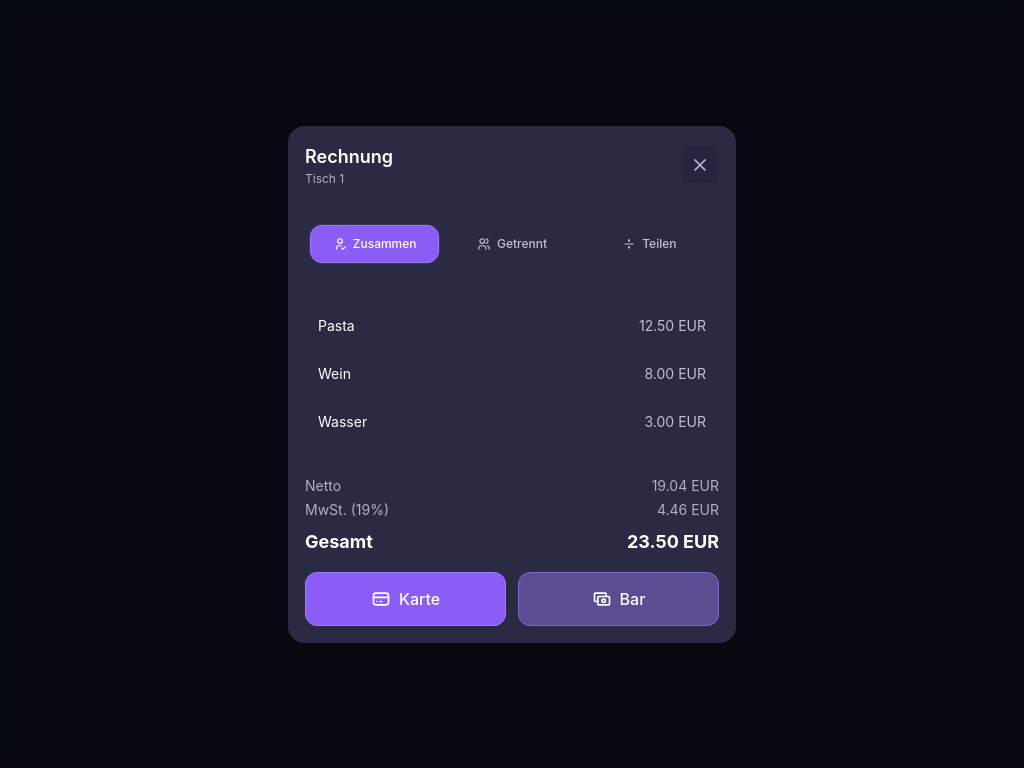
it: Scenario 2 — Equal-split billing (2×11.75, mixed methods → close) › total displayed is 23.50 EUR
Expected: the text "23.50 EUR" is shown, [627,528,719,556]
// Switch to "Teilen" (equal) mode
Click the button "Teilen" at (649, 244), box [585,224,714,262]
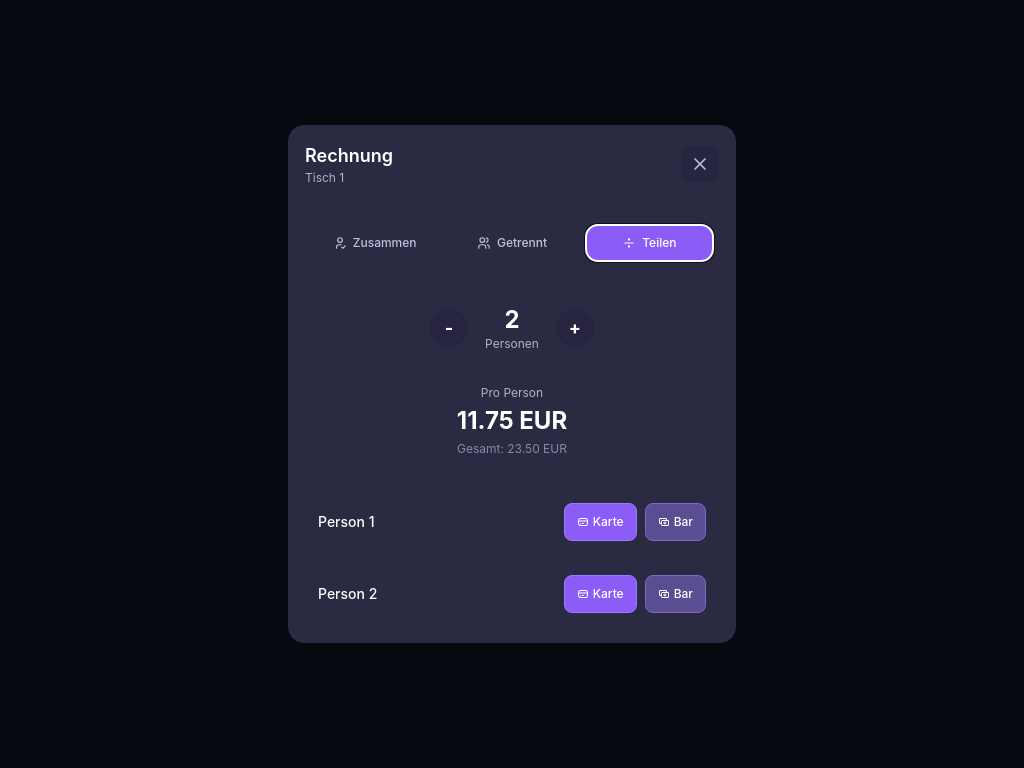
Result: the text "Gesamt: 23.50 EUR" is shown at [457,441,567,456]
